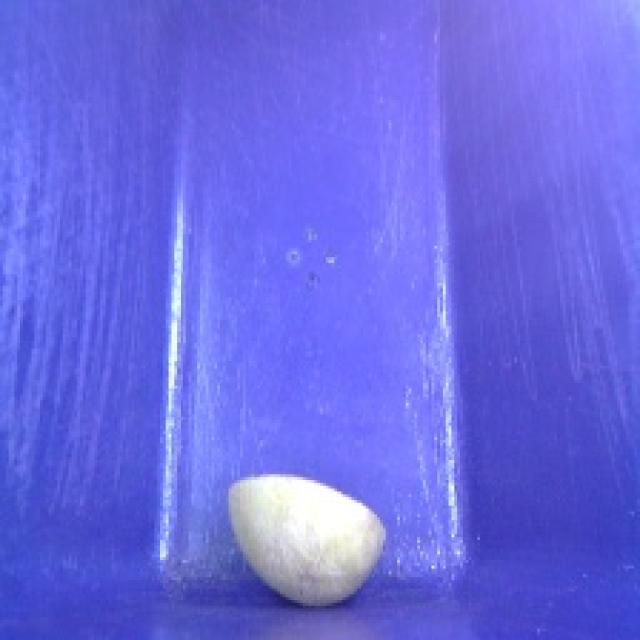potato: (194, 459, 412, 606)
